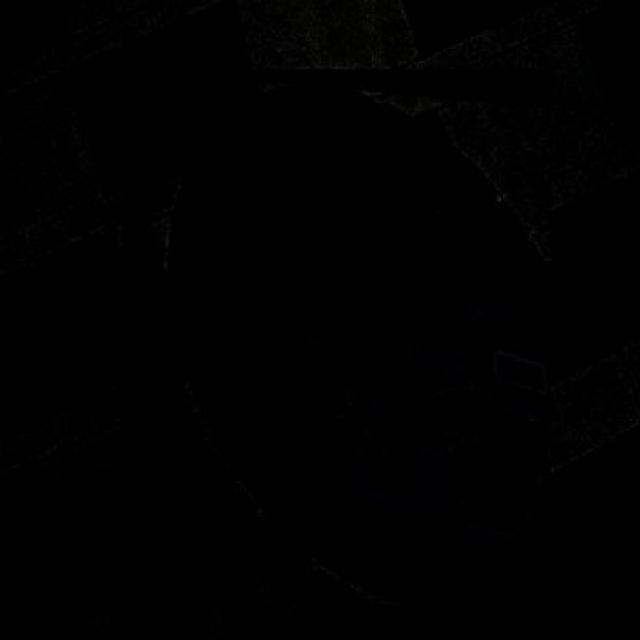Manhole: (122, 70, 550, 606)
